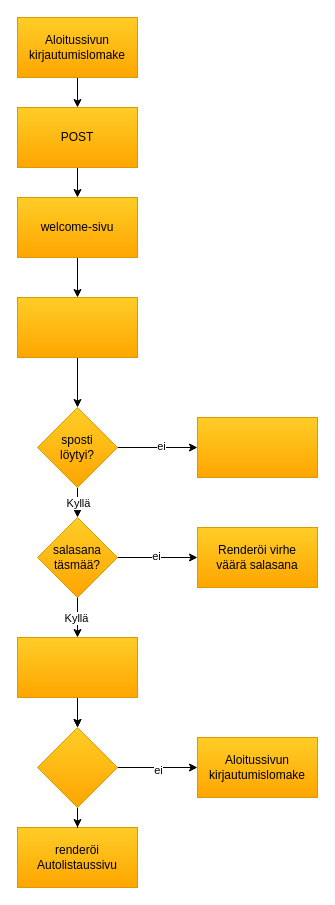
Some shapes in this 335 by 905 pixel diagram are drawn without their labels. The shapes that lost their labels are listed below. From the top down, each one's box as (x1, y1, x2, y2) in pixels, then its label:
(16, 296, 138, 358): hae tiedot webuser- taulusta sähköpostin perusteella
(196, 416, 318, 478): Renderöi virhe tunnus virheellinen
(16, 636, 138, 698): aseta istuntoasetukset
(36, 726, 118, 808): rooli löytyy?
